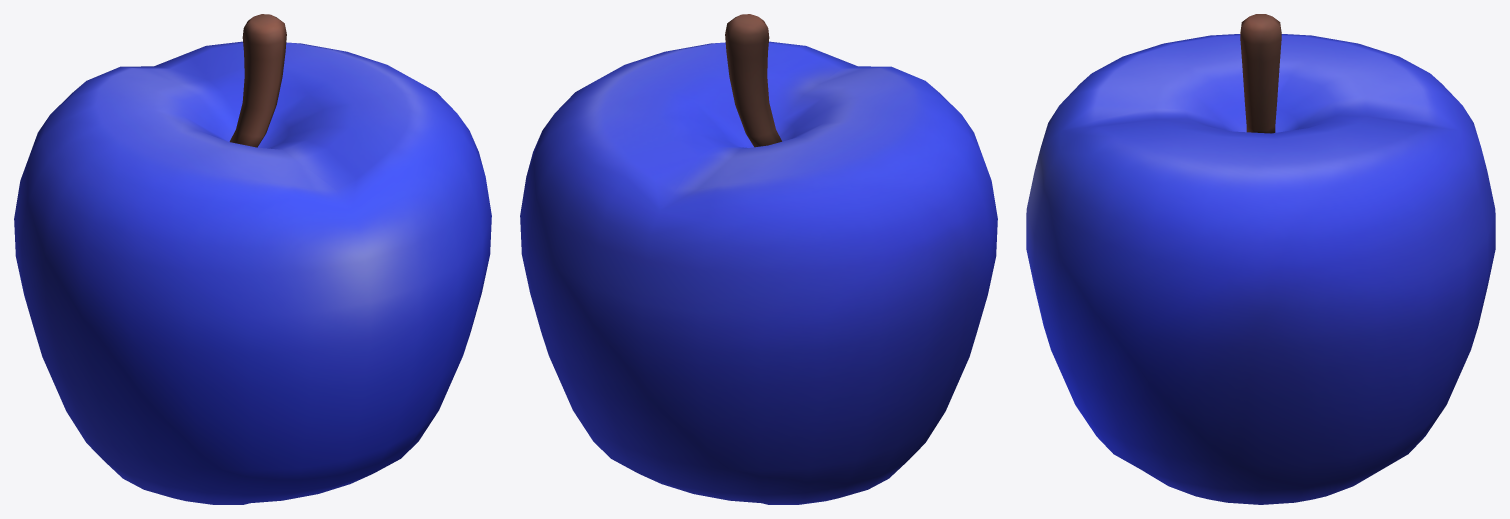
The model's file is model_Apple.fbx.
3 renders of one model, left to right at view 1: azimuth 30°, elevation 25°; view 2: azimuth 150°, elevation 25°; view 3: azimuth 270°, elevation 25°, orthographic.
Parts seen in each view (by area): view 1: model_Apple; view 2: model_Apple; view 3: model_Apple.
Part boxes in pixels (x1,y1,x2,y2): model_Apple: (14,14,491,504); model_Apple: (520,14,997,504); model_Apple: (1026,14,1495,504).
Size of the model in its own units: 44.29 by 44.54 by 42.85.
